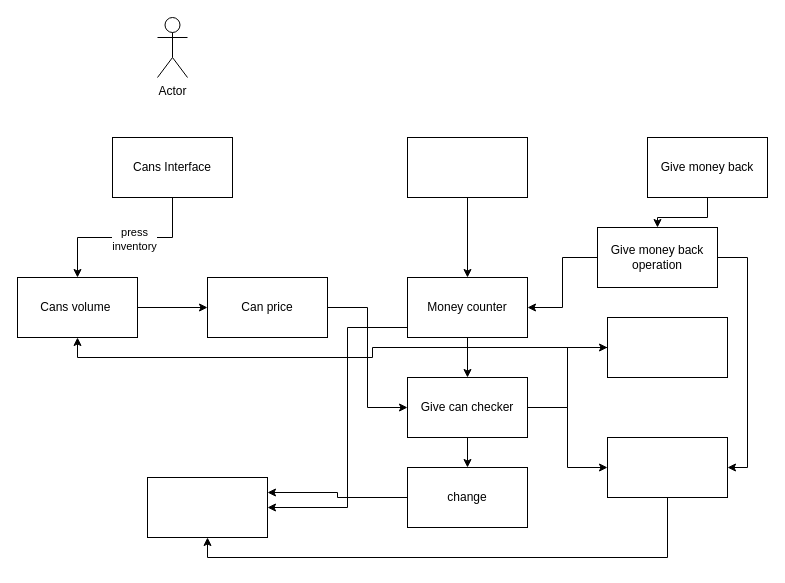
The diagram is 785 pixels wide and 583 high, and some of its shapes have lost their labels. Each missing label, with the centre of its shape:
change vault: the point at 207,507
Give a can: the point at 667,347
Give change: the point at 667,467
Money interface: the point at 467,167
